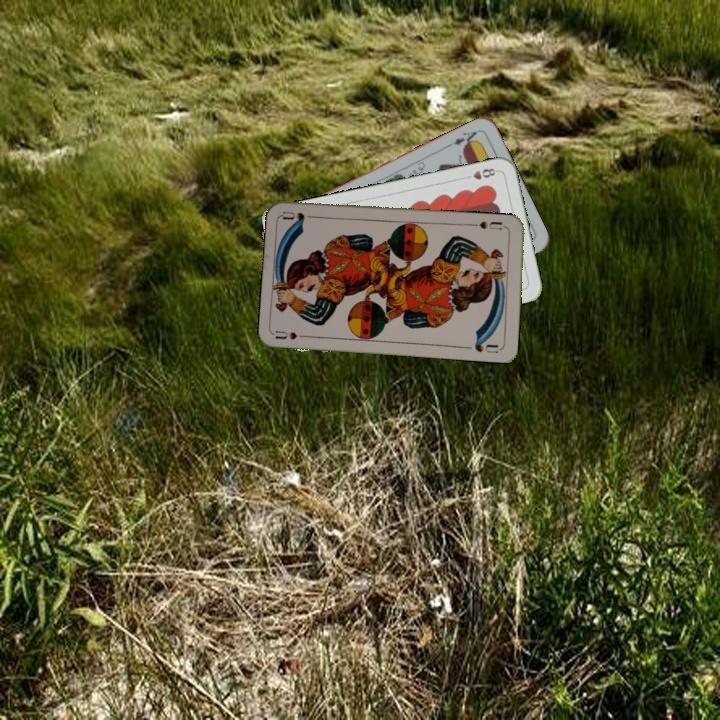EA: (443, 127, 481, 149)
H8: (460, 164, 500, 182)
SU: (273, 327, 313, 342), (475, 217, 505, 232)
